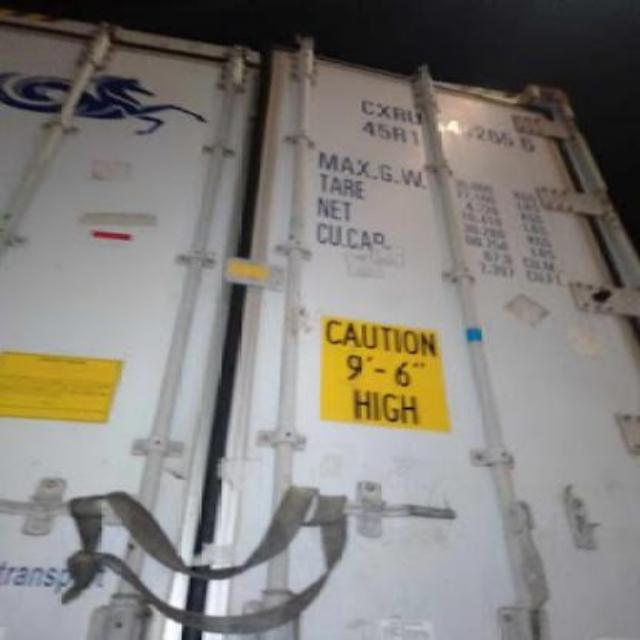2: (476, 122, 489, 144)
4: (444, 119, 462, 137), (462, 120, 476, 140)
5: (500, 130, 518, 148)
6: (486, 129, 499, 147), (522, 135, 534, 153)
C: (360, 98, 376, 118)
R: (394, 107, 406, 123)
U: (408, 110, 422, 126)
X: (376, 102, 394, 120)
